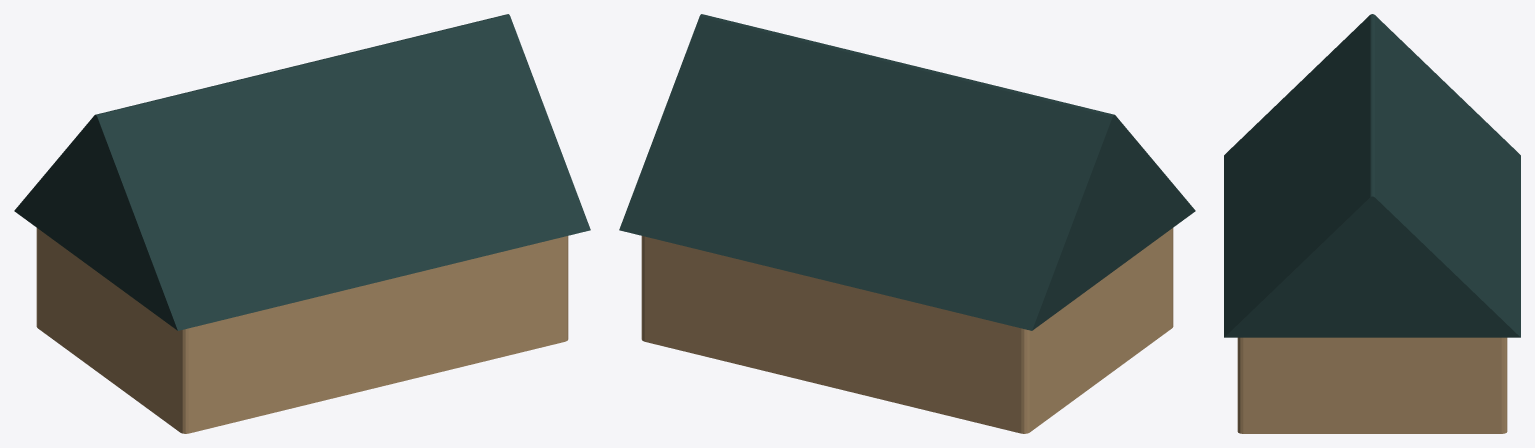
The model's file is building.obj.
3 views of the same model, side by side, from view 1: azimuth 30°, elevation 25°; view 2: azimuth 150°, elevation 25°; view 3: azimuth 270°, elevation 25° (orthographic). The views are drawn at different scales.
Bounding box in the file's own units: 19.2 × 11.93 × 13.2.
